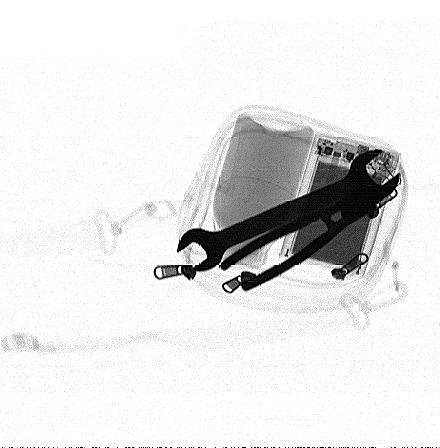Pliers: (219, 182, 385, 293)
Powerbank: (278, 134, 400, 278)
Wrench: (177, 149, 401, 272)
